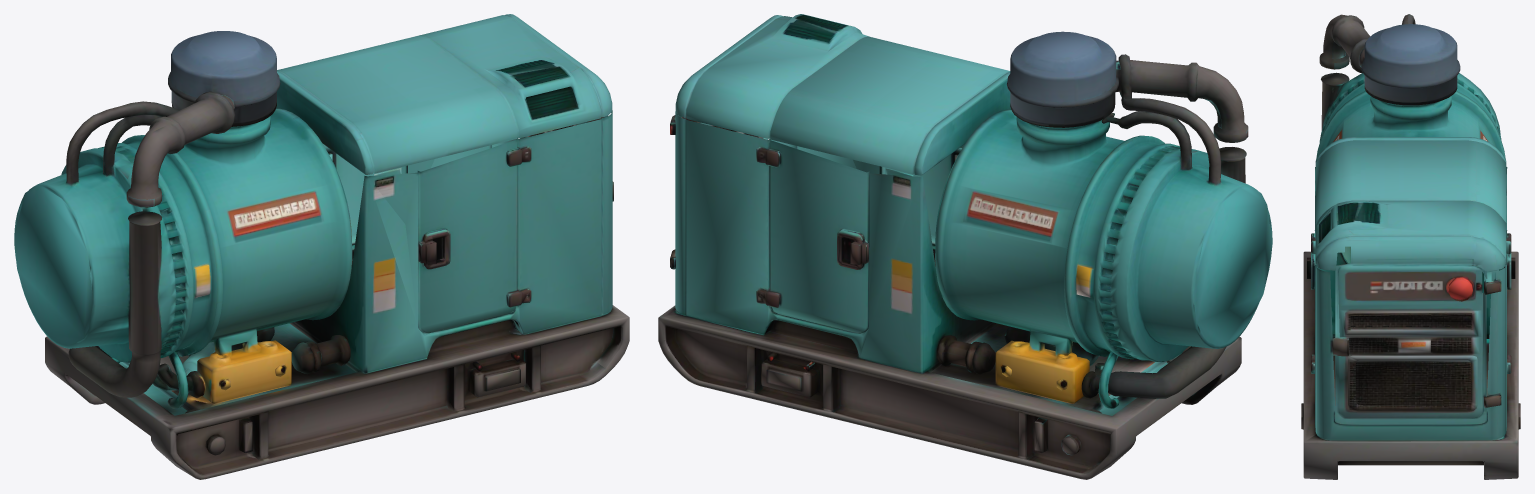
The model's file is Industrial__a_diesel_generator_32ec5191_v1.cluster.glb.
3 views of the same model, side by side, from view 1: azimuth 30°, elevation 25°; view 2: azimuth 150°, elevation 25°; view 3: azimuth 270°, elevation 25° (orthographic). The views are drawn at different scales.
Visible parts, largest first — view 1: material; view 2: material; view 3: material.
Boxes of the visible parts, x1,y1,x2,y2 form: material: (14, 14, 629, 479); material: (658, 14, 1272, 479); material: (1301, 14, 1520, 479).
Bounding box in the file's own units: 1.9 × 1.3 × 0.8182.
Materials: 1 (1 with a texture image).
